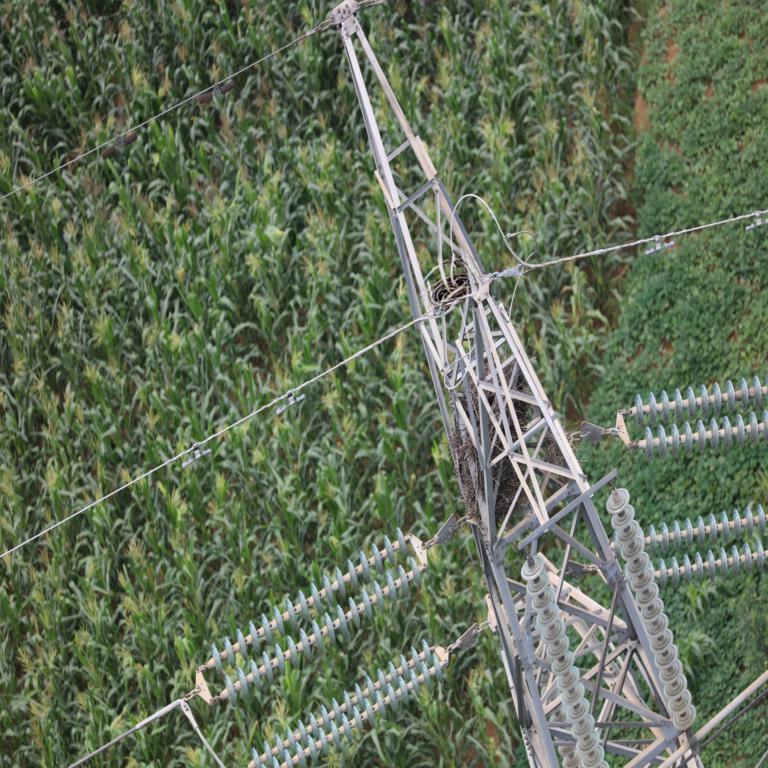nest: (458, 359, 531, 520), (433, 263, 470, 299)
